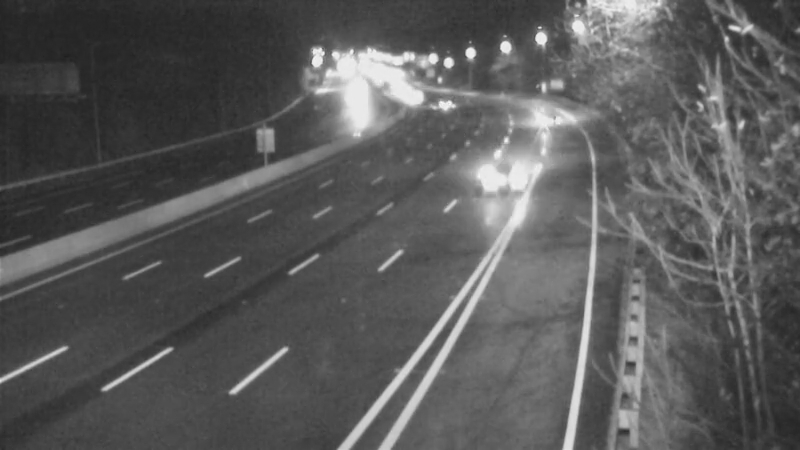vehicle: (465, 141, 545, 221), (415, 77, 465, 127), (522, 92, 572, 142)
